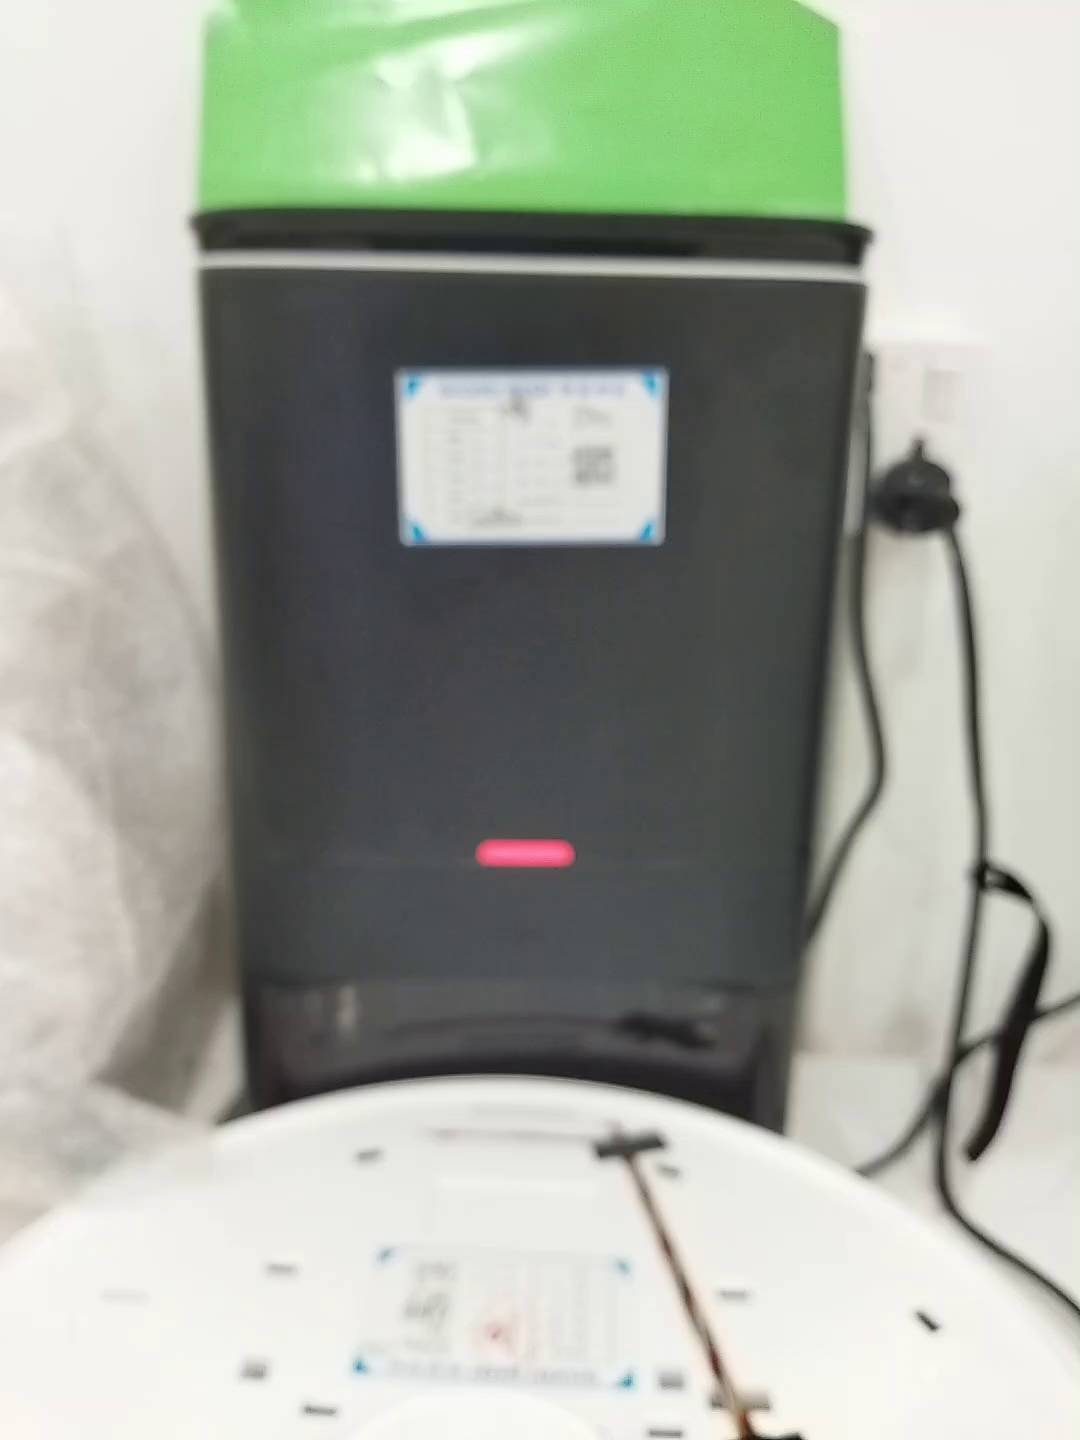dust collecting barrel: (189, 207, 878, 1151)
